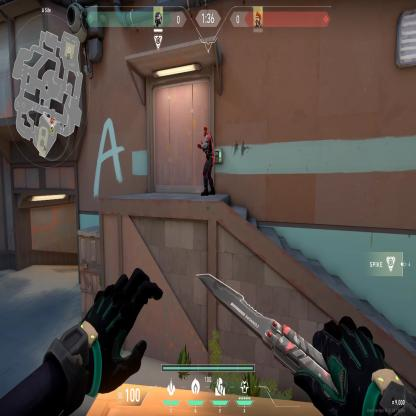enemy: (196, 122, 217, 199)
